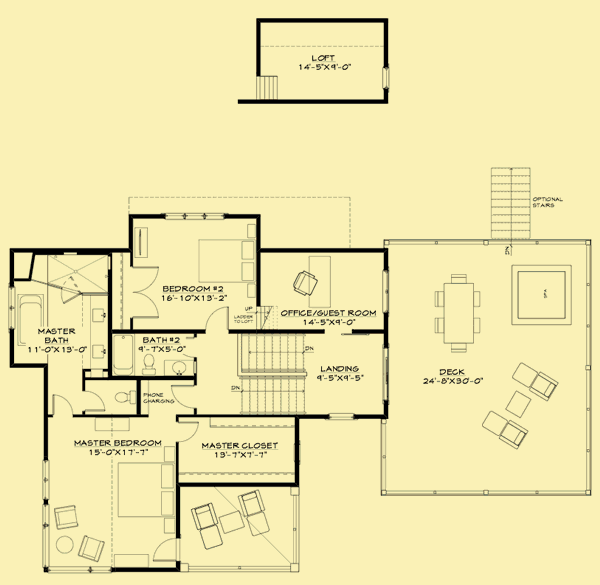arm_chair: (291, 268, 318, 299)
bed: (115, 460, 176, 520), (196, 237, 255, 286)
dining_table: (433, 271, 486, 357)
door: (127, 264, 163, 321), (200, 304, 233, 335), (78, 387, 106, 414), (167, 383, 196, 409), (175, 419, 202, 446), (152, 536, 178, 564), (50, 392, 73, 418)
large_sink: (109, 387, 137, 410), (139, 351, 158, 377)
small_sink: (88, 295, 113, 368), (161, 360, 196, 378)
small_sofa: (498, 418, 529, 449), (529, 373, 560, 403), (189, 502, 220, 531), (76, 535, 105, 564), (238, 489, 267, 517), (51, 504, 81, 530)
stairs: (229, 333, 311, 415), (487, 165, 534, 237)
tub: (14, 291, 47, 353), (111, 333, 135, 378)
window: (40, 455, 50, 566), (162, 210, 225, 223)
